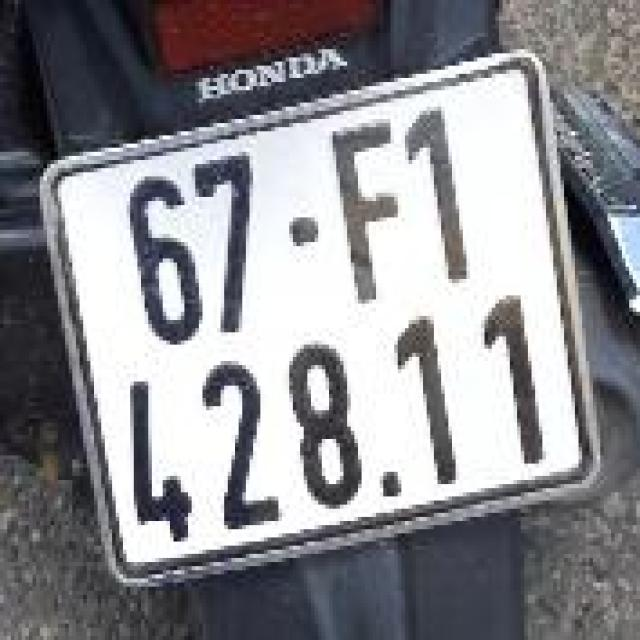1: (389, 93, 493, 304), (378, 304, 489, 501), (112, 362, 214, 557), (468, 284, 565, 480)
2: (191, 350, 304, 543)
6: (113, 168, 214, 358)
7: (175, 144, 273, 350)
8: (268, 325, 381, 528)
F: (321, 113, 417, 320)
